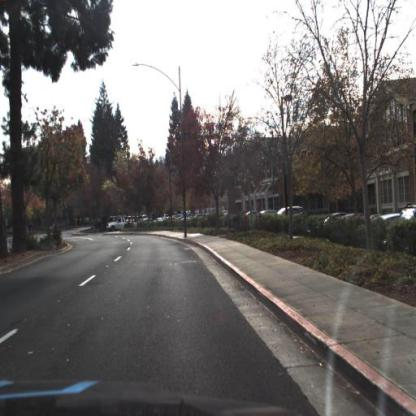car: (105, 216, 140, 232), (280, 207, 308, 222)
